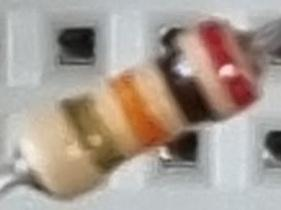Black: (150, 29, 222, 125)
Orange: (106, 69, 172, 154)
Red: (194, 20, 263, 112)
Side-Gold: (53, 92, 129, 182)
